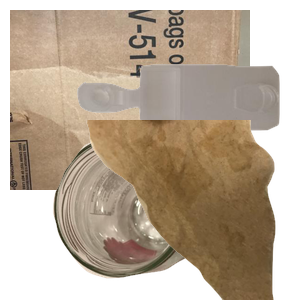cardboard: (10, 10, 250, 190)
glass: (50, 131, 252, 300)
plastic: (75, 62, 300, 186)
trash: (84, 120, 300, 300)
